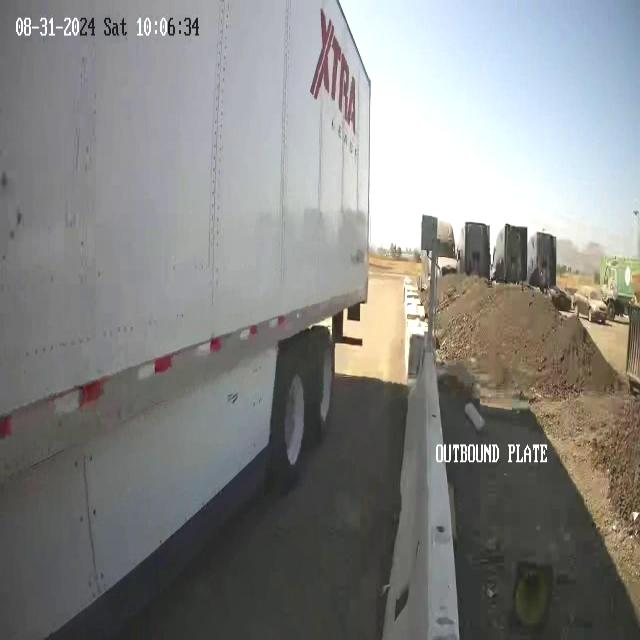CONTAINER: (1, 1, 372, 488)
